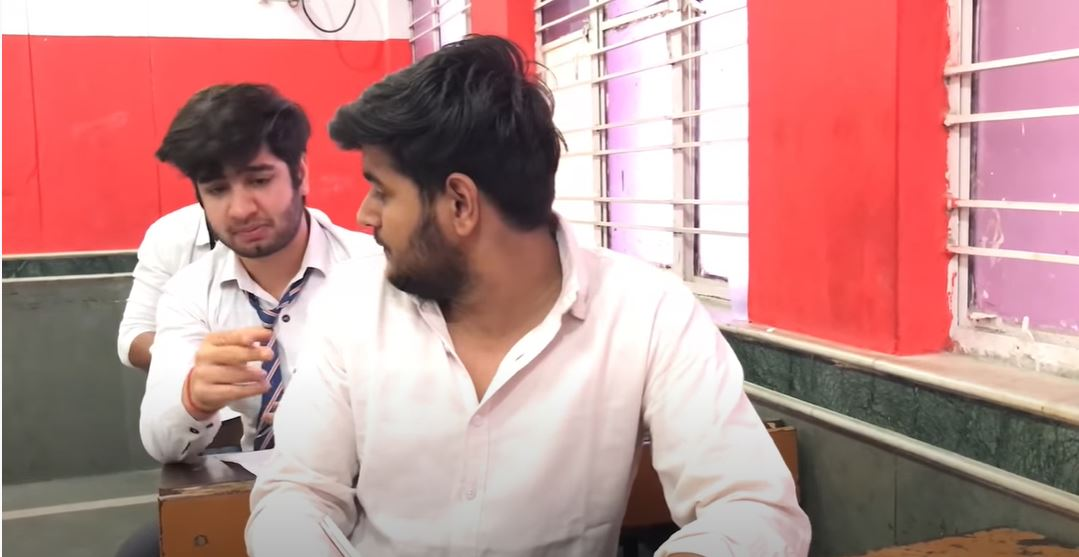student: (136, 116, 353, 356)
studentcopying: (320, 101, 636, 489)
